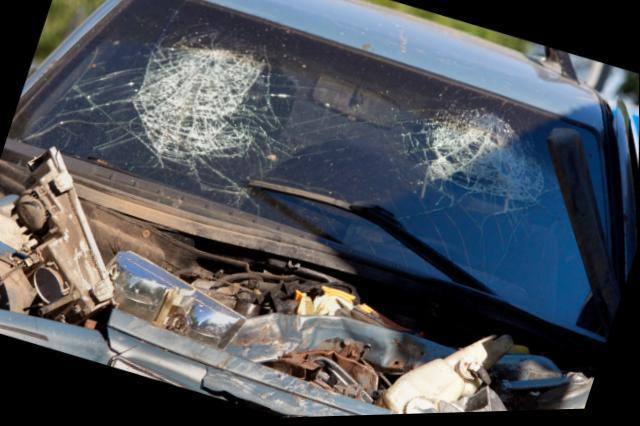crack: (200, 369, 314, 419), (98, 329, 139, 356)
glass shatter: (7, 0, 612, 343)
